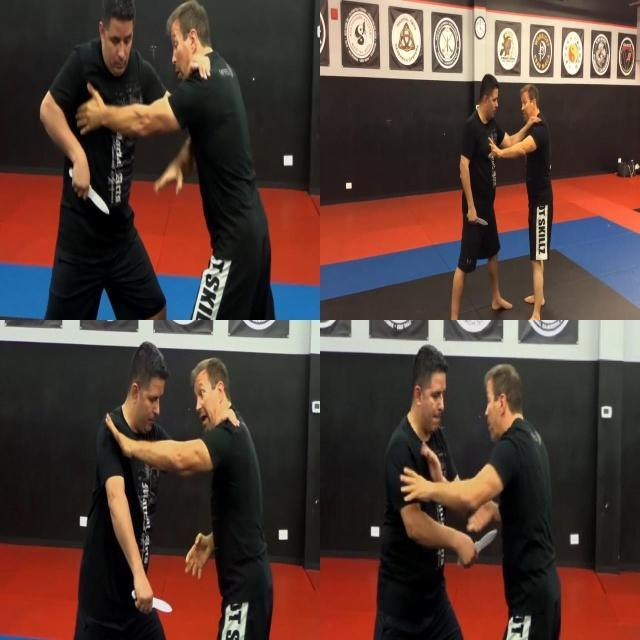-: (67, 164, 109, 217), (455, 524, 498, 569), (129, 586, 174, 615), (465, 210, 489, 226)
